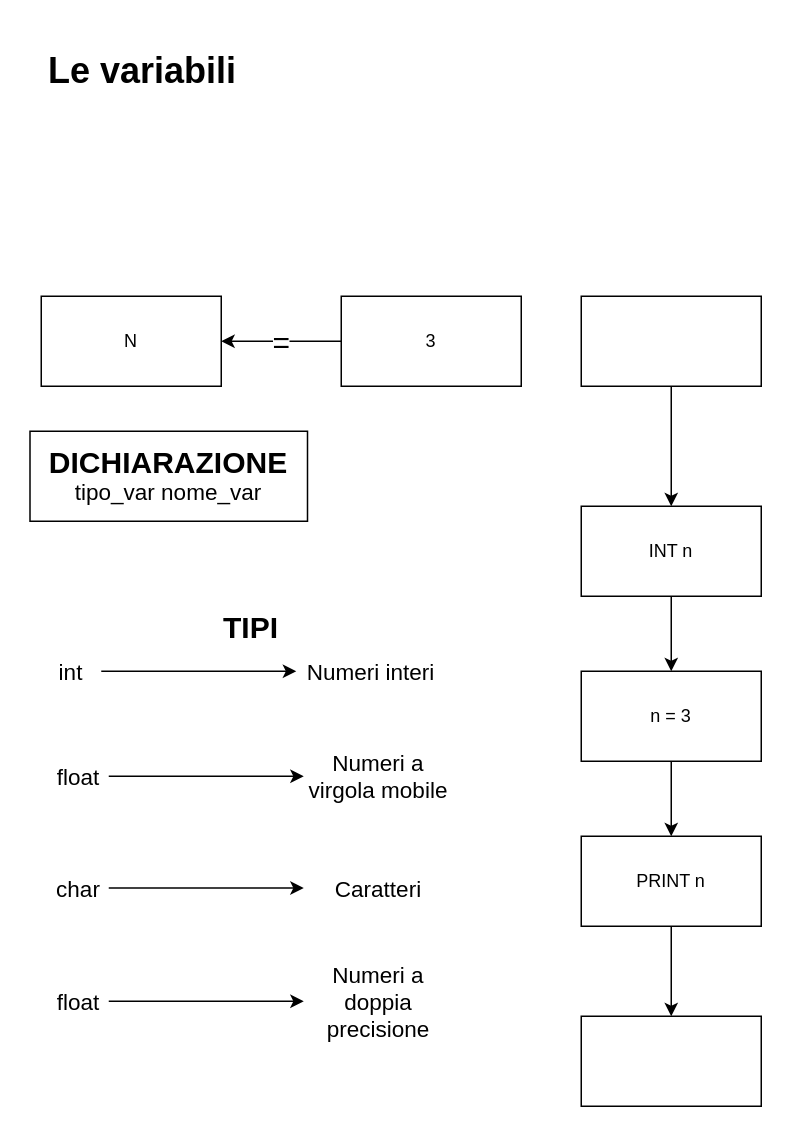
The diagram is 788 pixels wide and 1133 high, and some of its shapes have lost their labels. Each missing label, with the centre of its shape:
START: (670,340)
SUCCESSO: (670,1060)
